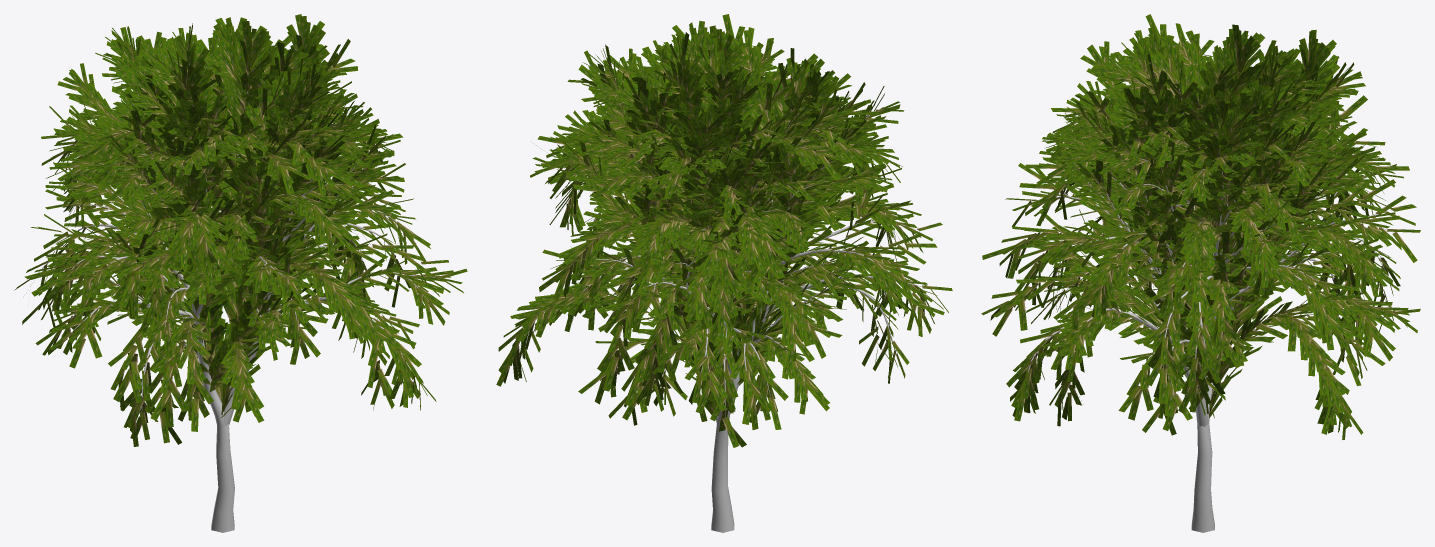
Rendered from TreeV2.fbx.
The picture shows the model from 3 angles, left to right: view 1: azimuth 30°, elevation 25°; view 2: azimuth 150°, elevation 25°; view 3: azimuth 270°, elevation 25°; orthographic projection.
Parts seen in each view (by area): view 1: leaves5, tree1; view 2: leaves5, tree1; view 3: leaves5, tree1.
Part boxes in pixels (<box>): leaves5: <box>14,14,467,446</box>; tree1: <box>38,67,434,532</box>; leaves5: <box>496,14,952,447</box>; tree1: <box>563,83,922,532</box>; leaves5: <box>981,14,1420,439</box>; tree1: <box>1028,63,1393,532</box>.
Bounding box in the file's own units: 6.11 × 7.65 × 6.15.
